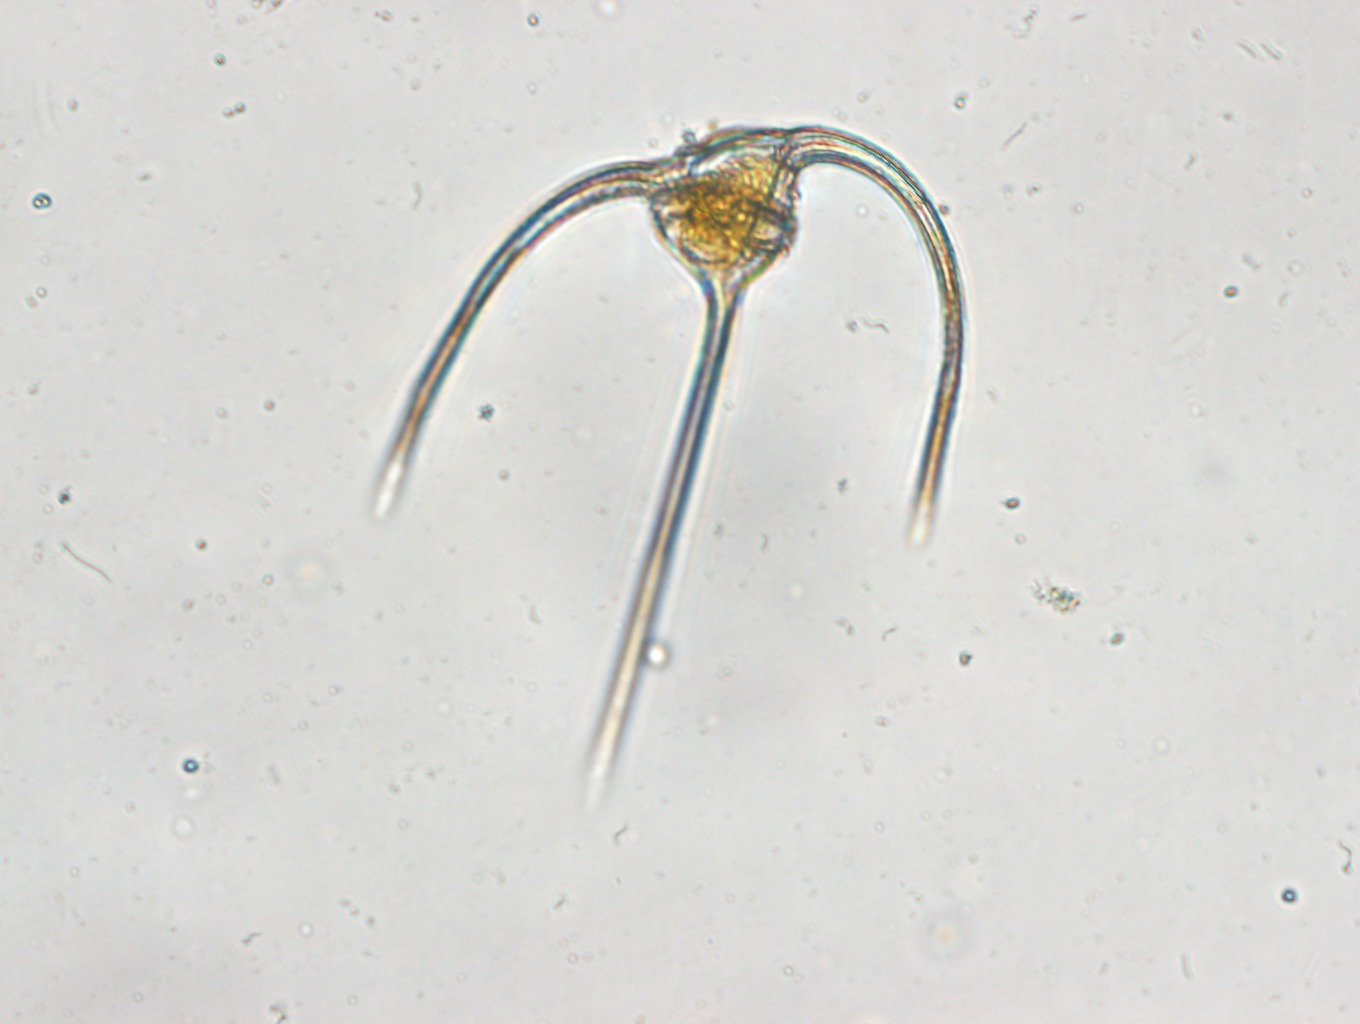ceratium trichoceros: (372, 114, 973, 805)
